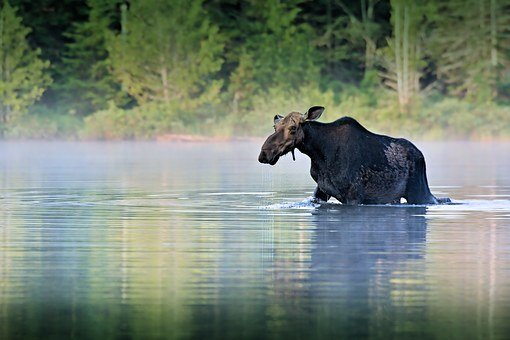forest: (7, 7, 510, 132)
lake: (16, 153, 334, 340)
